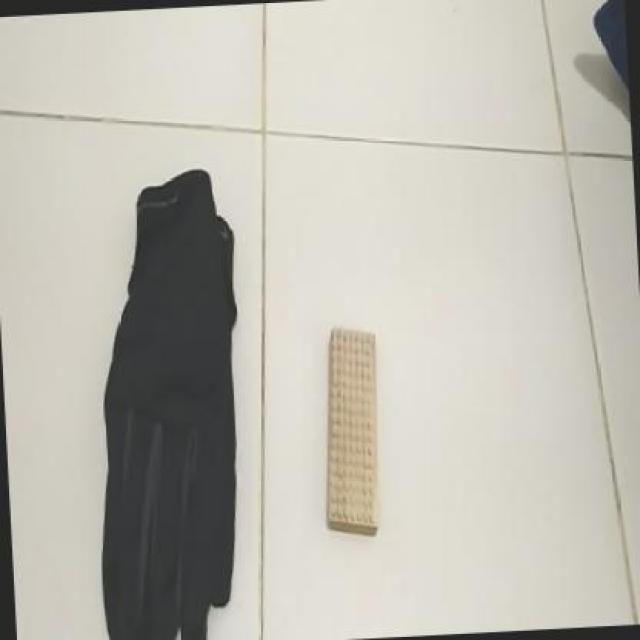Gloves: (89, 164, 241, 640)
